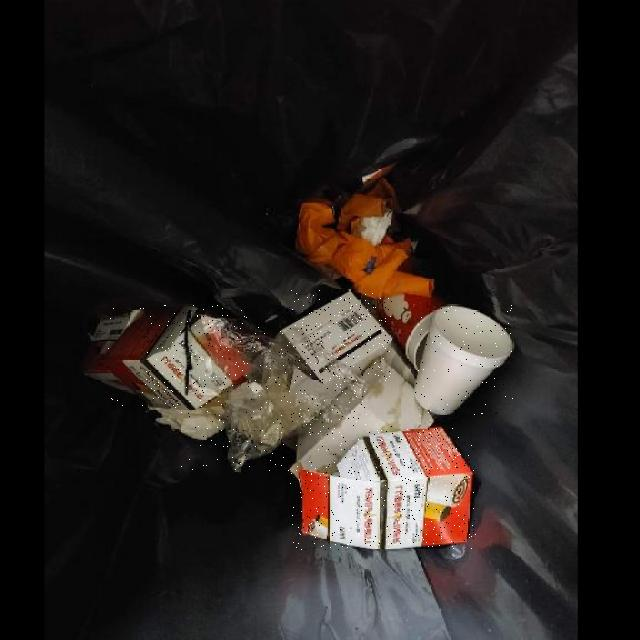paper: (289, 426, 476, 550), (109, 305, 251, 410), (282, 290, 392, 383), (84, 309, 142, 393)
plastic: (179, 327, 369, 471)
styrofoam: (414, 305, 513, 414)
